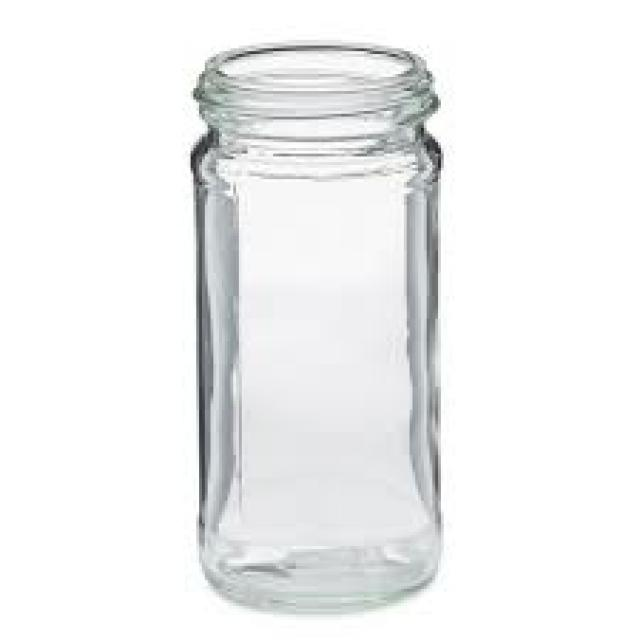Glass-Non-Biodegradable but Recyclable-: (182, 59, 448, 620)
